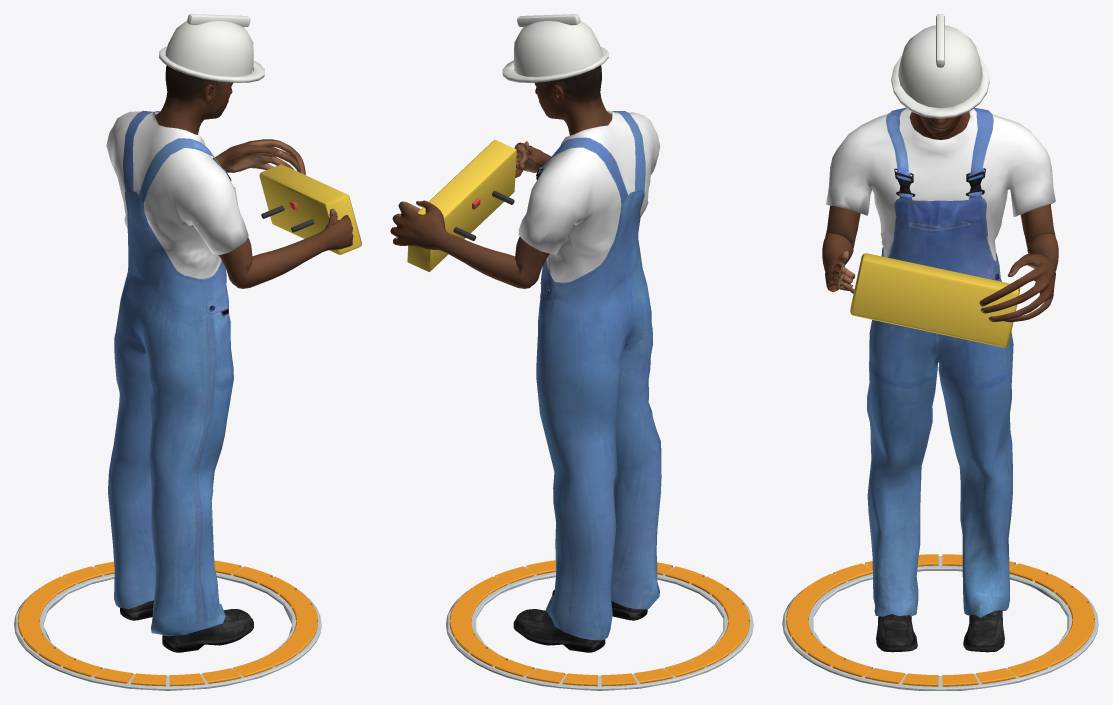
The model's file is MDO-EQP-001_lod1.glb.
3 renders of one model, left to right at view 1: azimuth 30°, elevation 25°; view 2: azimuth 150°, elevation 25°; view 3: azimuth 270°, elevation 25°, orthographic. The views are drawn at different scales.
Visible parts, largest first — view 1: MDO-EQP-001_pessoa_male_worksuit01, MDO-EQP-001_pessoa, MDO-EQP-001_ferD_controle, MDO-EQP-001_capacete, MDO-EQP-001_anel_fundo, MDO-EQP-001_pessoa_shoes04, MDO-EQP-001_capacete_aba, MDO-EQP-001_capacete_friso; view 2: MDO-EQP-001_pessoa_male_worksuit01, MDO-EQP-001_pessoa, MDO-EQP-001_ferD_controle, MDO-EQP-001_capacete, MDO-EQP-001_anel_fundo, MDO-EQP-001_pessoa_shoes04, MDO-EQP-001_capacete_aba, MDO-EQP-001_capacete_friso; view 3: MDO-EQP-001_pessoa_male_worksuit01, MDO-EQP-001_ferD_controle, MDO-EQP-001_pessoa, MDO-EQP-001_capacete, MDO-EQP-001_anel_fundo, MDO-EQP-001_pessoa_shoes04, MDO-EQP-001_capacete_aba.
Part boxes in pixels (x1,y1,x2,y2): MDO-EQP-001_pessoa_male_worksuit01: (106,110,248,636); MDO-EQP-001_pessoa: (155,65,353,288); MDO-EQP-001_ferD_controle: (259,164,361,254); MDO-EQP-001_capacete: (165,20,253,76); MDO-EQP-001_anel_fundo: (14,567,321,690); MDO-EQP-001_pessoa_shoes04: (120,600,253,652); MDO-EQP-001_capacete_aba: (159,46,264,82); MDO-EQP-001_capacete_friso: (187,14,250,26); MDO-EQP-001_pessoa_male_worksuit01: (518,110,661,640); MDO-EQP-001_pessoa: (390,65,612,288); MDO-EQP-001_ferD_controle: (407,139,516,271); MDO-EQP-001_capacete: (514,20,601,76); MDO-EQP-001_anel_fundo: (446,567,753,690); MDO-EQP-001_pessoa_shoes04: (513,589,647,652); MDO-EQP-001_capacete_aba: (502,47,608,82); MDO-EQP-001_capacete_friso: (517,14,580,26); MDO-EQP-001_pessoa_male_worksuit01: (826,107,1055,617); MDO-EQP-001_ferD_controle: (850,253,1019,347); MDO-EQP-001_pessoa: (822,112,1058,322); MDO-EQP-001_capacete: (898,25,982,108); MDO-EQP-001_anel_fundo: (782,556,1098,690); MDO-EQP-001_pessoa_shoes04: (876,610,1004,652); MDO-EQP-001_capacete_aba: (891,56,989,118).
Size of the model in its own units: 0.9507 by 1.83 by 0.84.
Materials: 11 (5 with a texture image).
